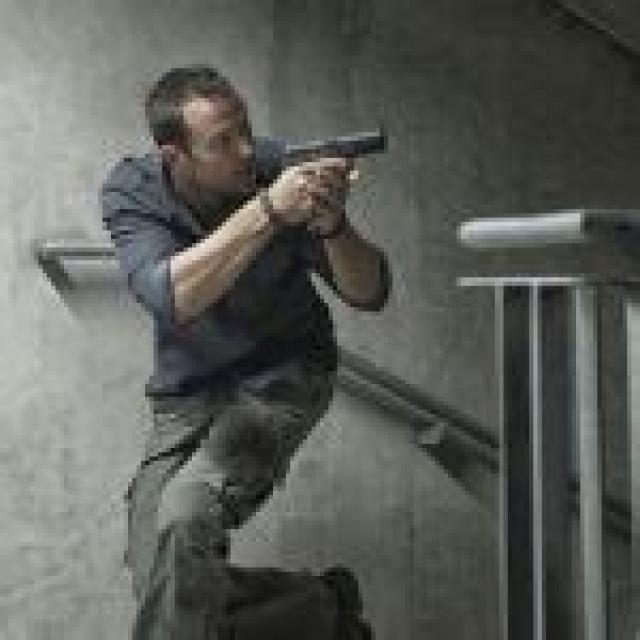weapons: (266, 119, 398, 216)
